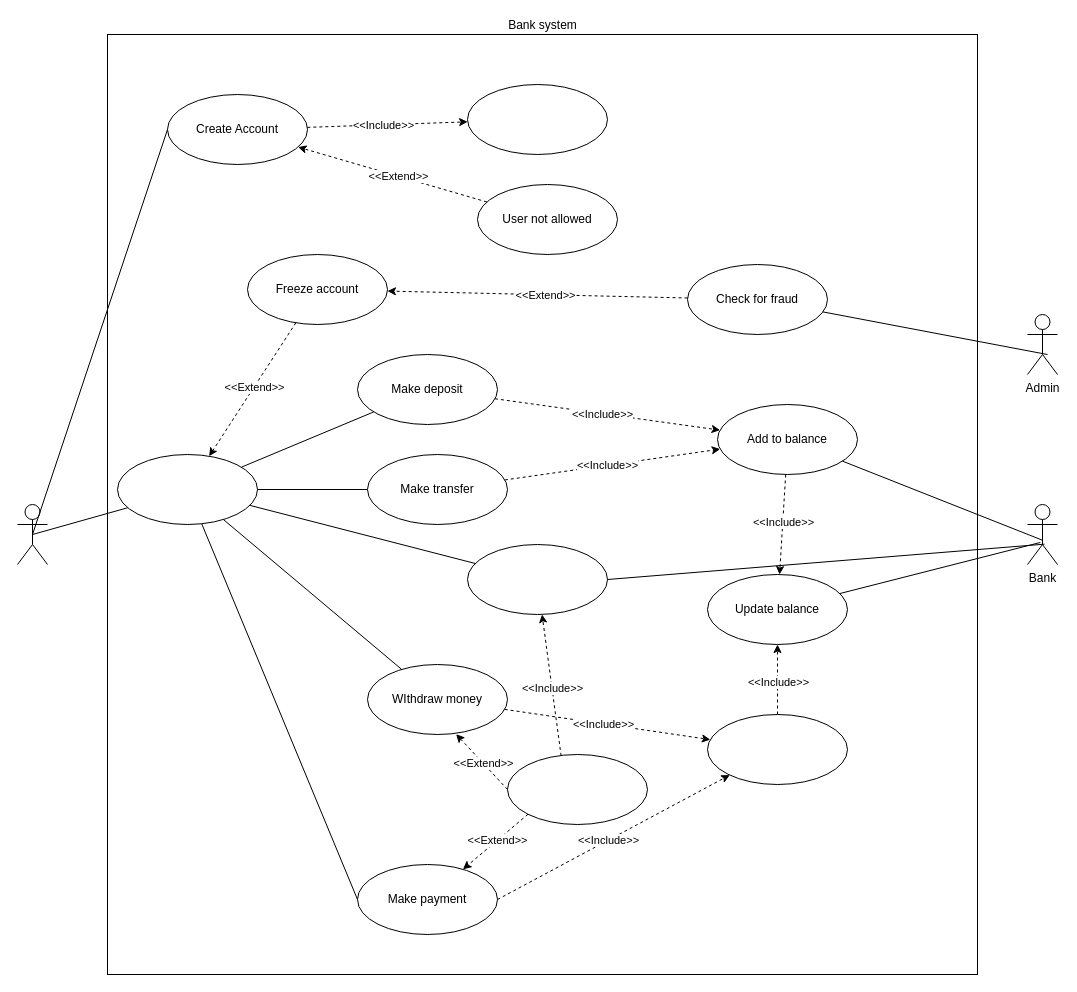
This 1077x992 diagram has some shape labels left out. The shapes that lost their labels are listed below. From the top down, each one's centre as x and y in pixels, then its label:
[537,119]: Validate data
[187,489]: Make transactions
[32,534]: Client
[537,579]: Check balance
[777,749]: Subtract form balance
[577,789]: Insufficient funds
